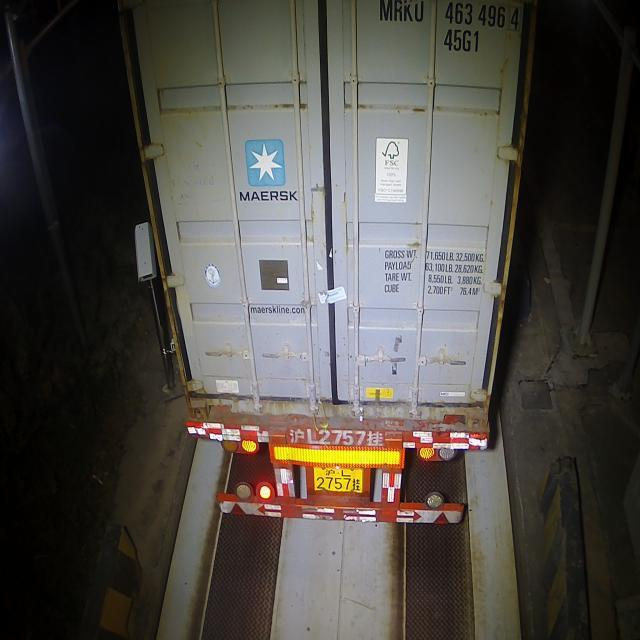ISO: (438, 25, 488, 55)
container_number: (367, 1, 538, 26)
